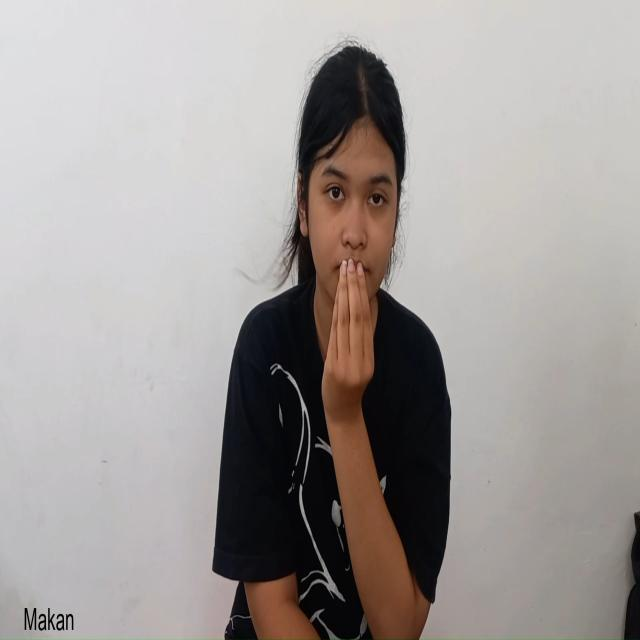Makan -BISINDO-: (296, 44, 402, 427)
